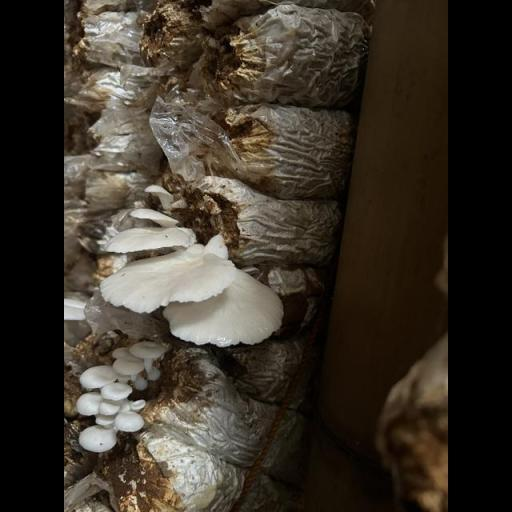White Oyster Mushroom: (63, 339, 177, 462)
